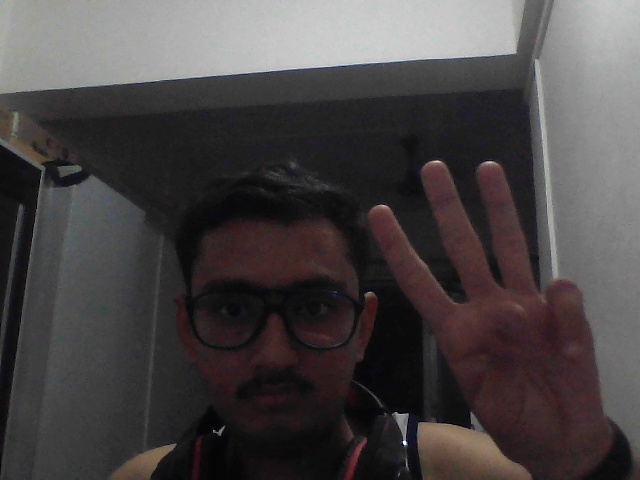Hello: (335, 115, 624, 457)
